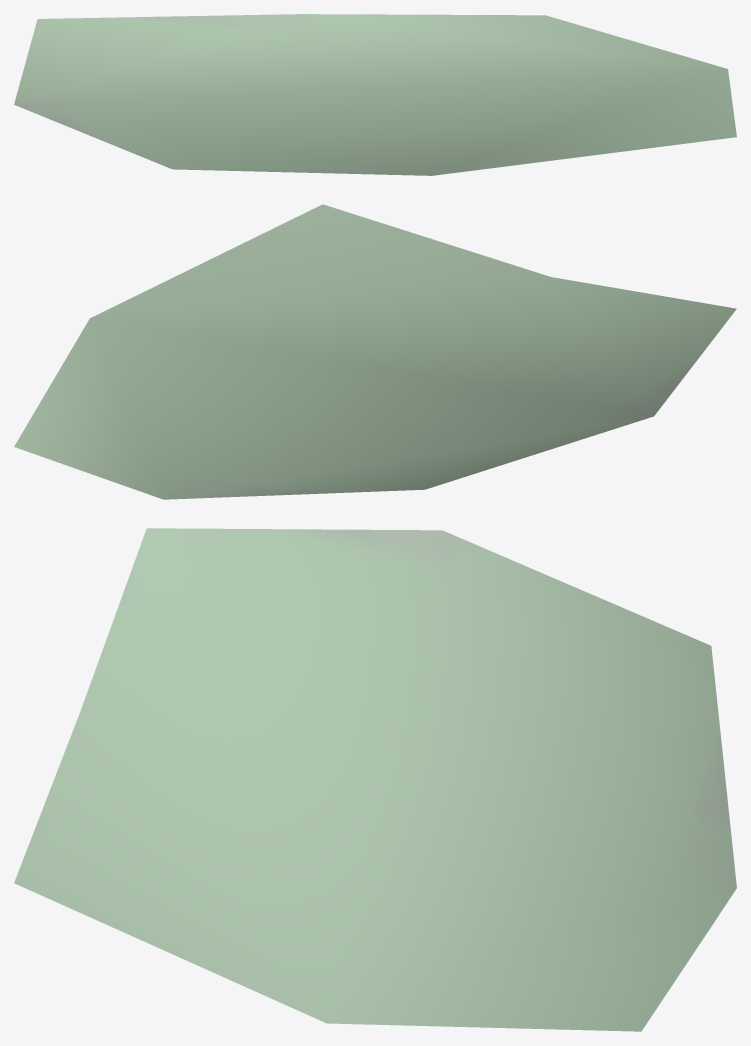
The model's file is TROLLHOLE02_HOLECAP185.fbx.
3 views of the same model, one above another, from view 1: azimuth 30°, elevation 25°; view 2: azimuth 150°, elevation 25°; view 3: azimuth 270°, elevation 25° (orthographic). The views are drawn at different scales.
Visible parts, largest first — view 1: TROLLHOLE02_HOLECAP185; view 2: TROLLHOLE02_HOLECAP185; view 3: TROLLHOLE02_HOLECAP185.
Boxes of the visible parts, x1,y1,x2,y2 form: TROLLHOLE02_HOLECAP185: (14,14,736,175); TROLLHOLE02_HOLECAP185: (14,204,736,499); TROLLHOLE02_HOLECAP185: (14,528,736,1031).
Bounding box in the file's own units: 15174 × 3059 × 12034.
Materials: 1 (1 with a texture image).
